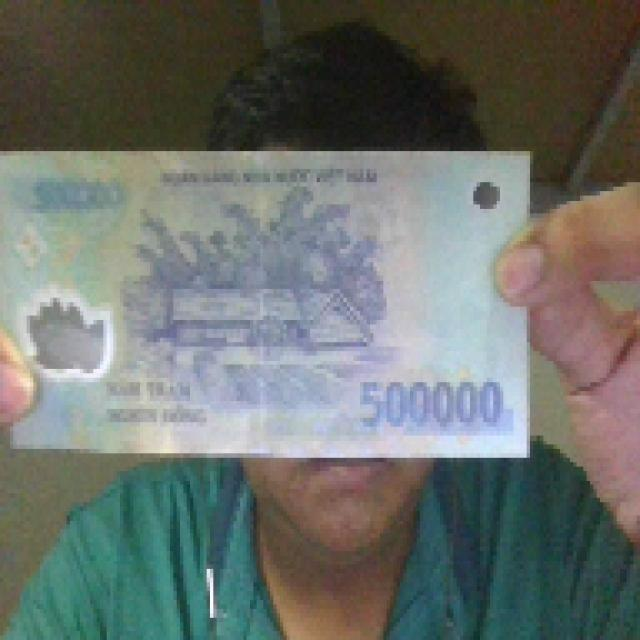500 000 VND: (0, 142, 537, 462)
